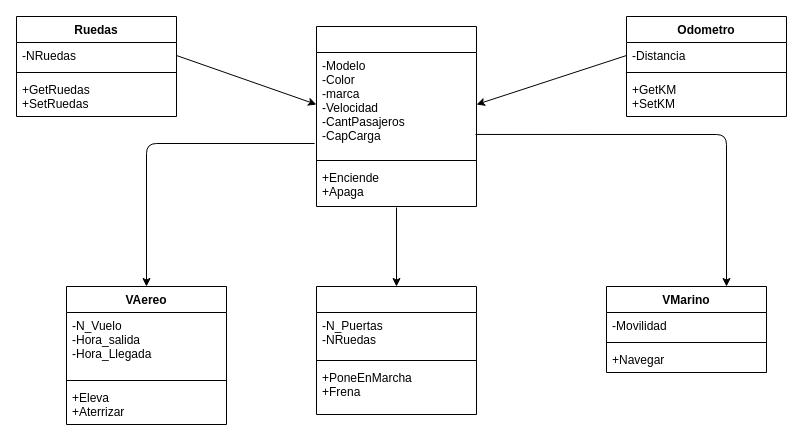
Image size: 803x441. Some labels were removed from this diagram. The shapes that lost their labels are listed below. From the top down, each one's box as (x1, y1, x2, y2) in pixels, then its label:
(316, 26, 476, 206): vehiculo
(316, 286, 476, 414): VTerrestre
